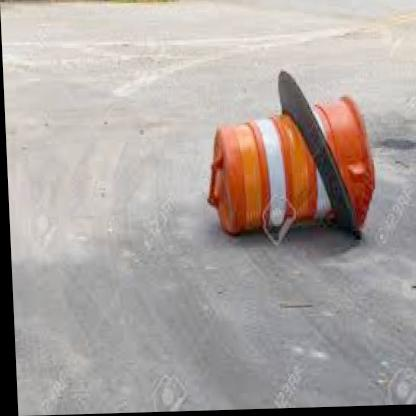obstacle: (215, 80, 378, 254)
